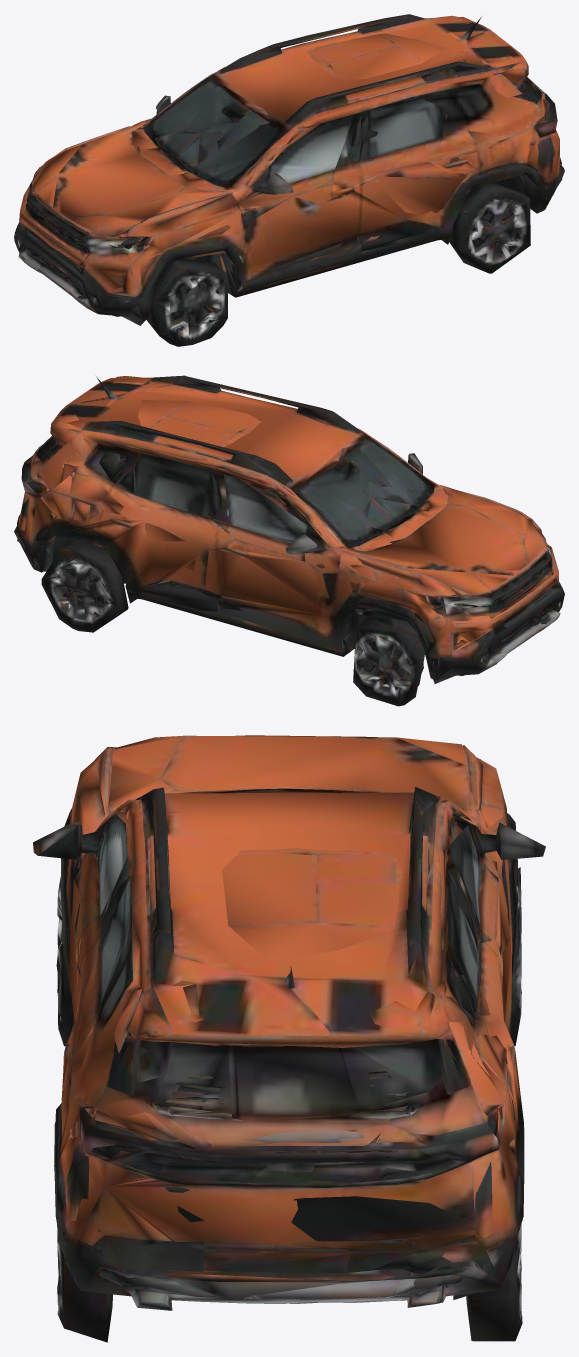
The model's file is duster.glb.
The picture shows the model from 3 angles, top to bottom: view 1: azimuth 30°, elevation 25°; view 2: azimuth 150°, elevation 25°; view 3: azimuth 270°, elevation 25°; orthographic projection. The views are drawn at different scales.
Bounding box in the file's own units: 1.89 × 0.768 × 0.8701.
Materials: 1 (1 with a texture image).
